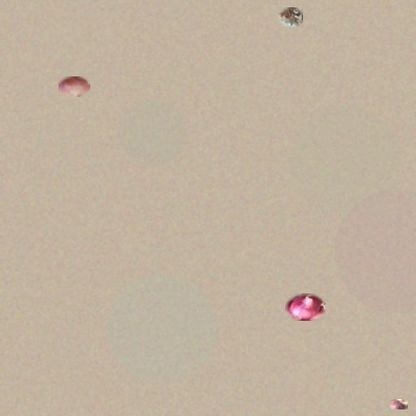healthy: (285, 293, 326, 321), (58, 76, 90, 97)
rotten: (279, 7, 303, 28)
sprouted: (390, 399, 408, 410)
